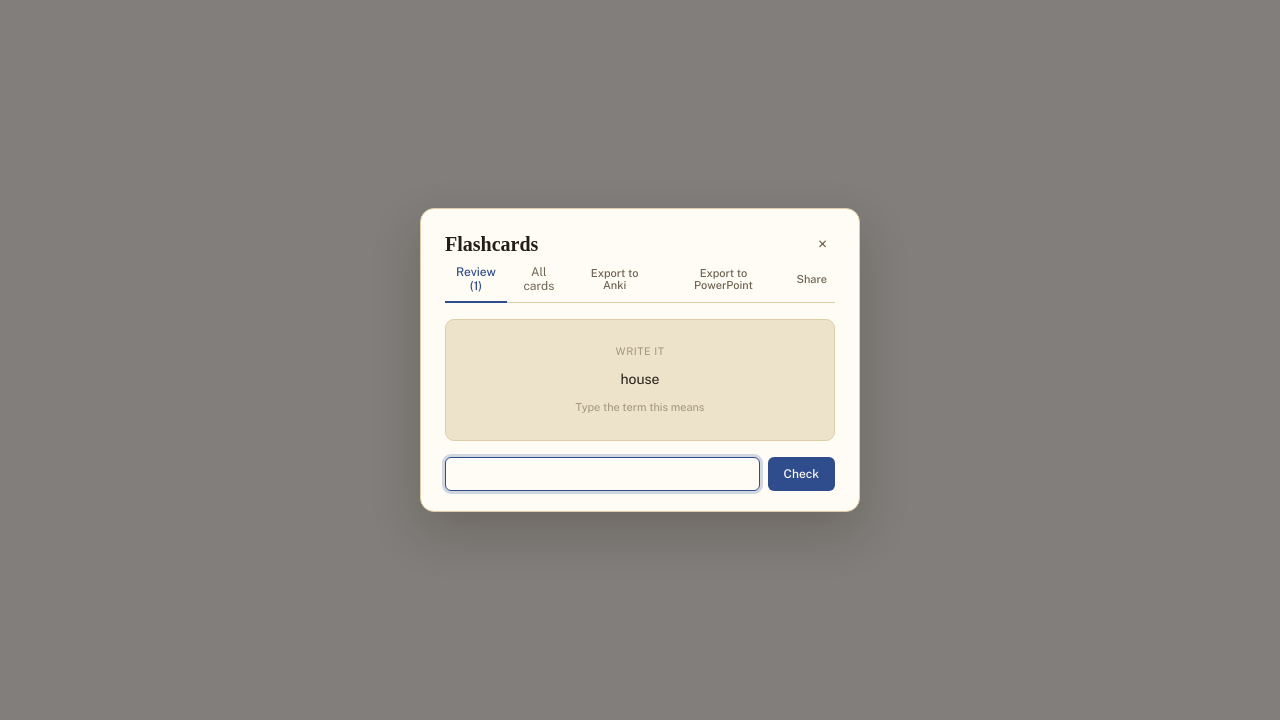
Test: FlashcardsPanel › production-direction review › shows the real answer next to a wrong one
The image size is (1280, 720).
Expected: the text "house" is shown, [620,368,660,391]
Type "el perro" into the field named "your answer" at {"x": 602, "y": 474}, box [445,457,760,491]
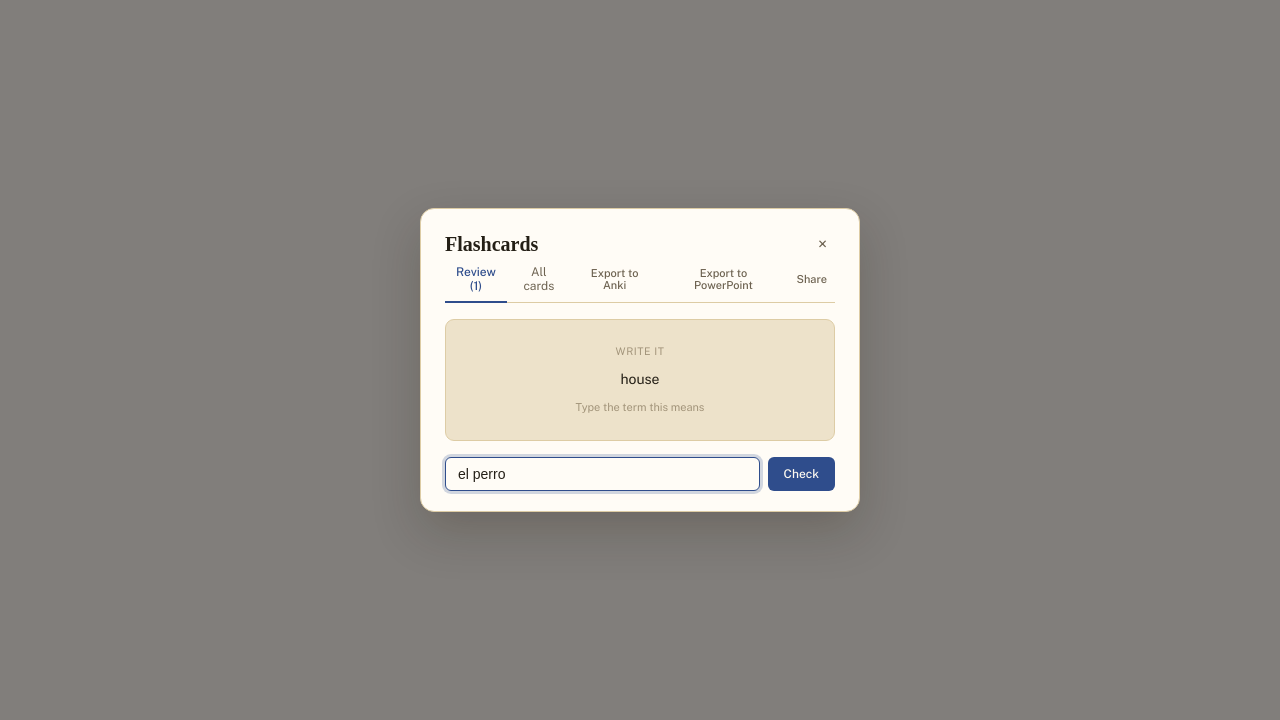
Click the button "Check" at {"x": 801, "y": 474}, box [768,457,835,491]
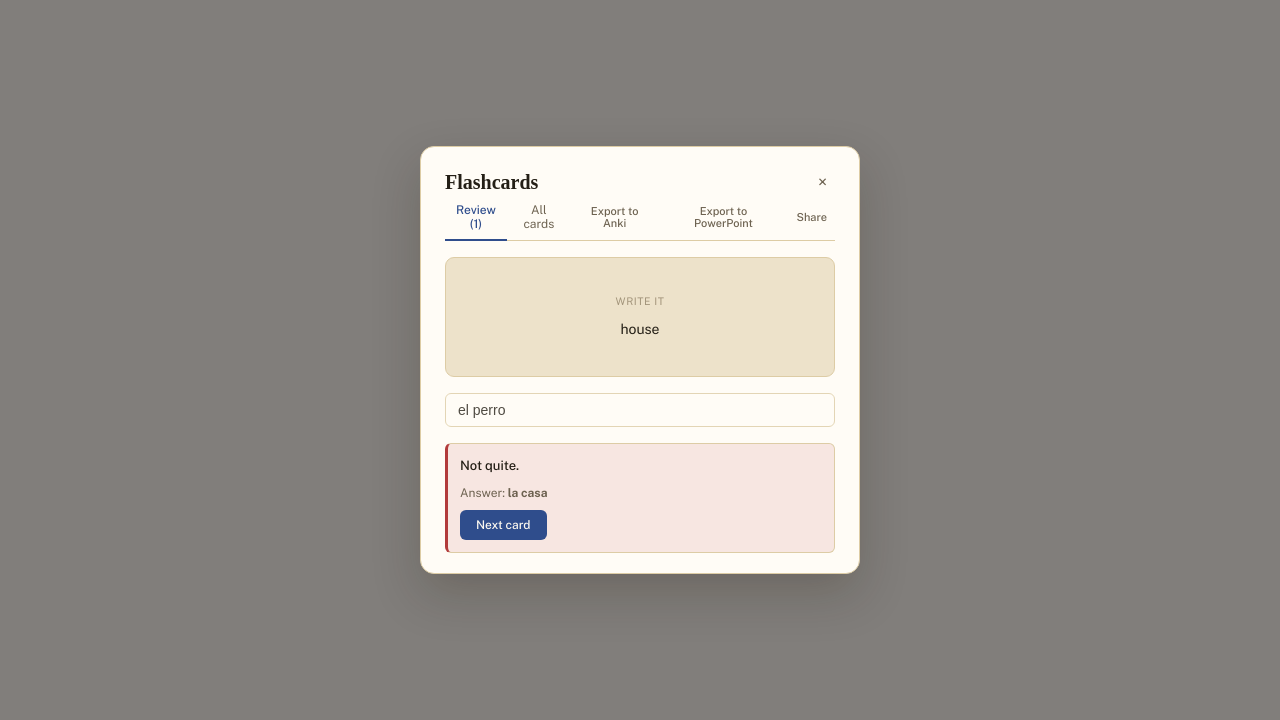
Result: the text "Not quite." is shown at [460,456,519,476]
Result: the text "la casa" is shown at [508,486,548,500]
